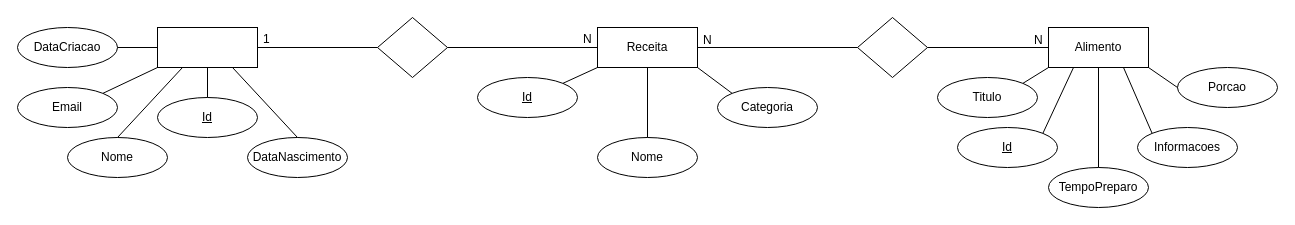
Image size: 1295x225. Some labels were removed from this diagram. Each missing label, with the centre of its shape:
Cliente: pixel 207 47
Possui: pixel 412 47
Tem: pixel 892 47
